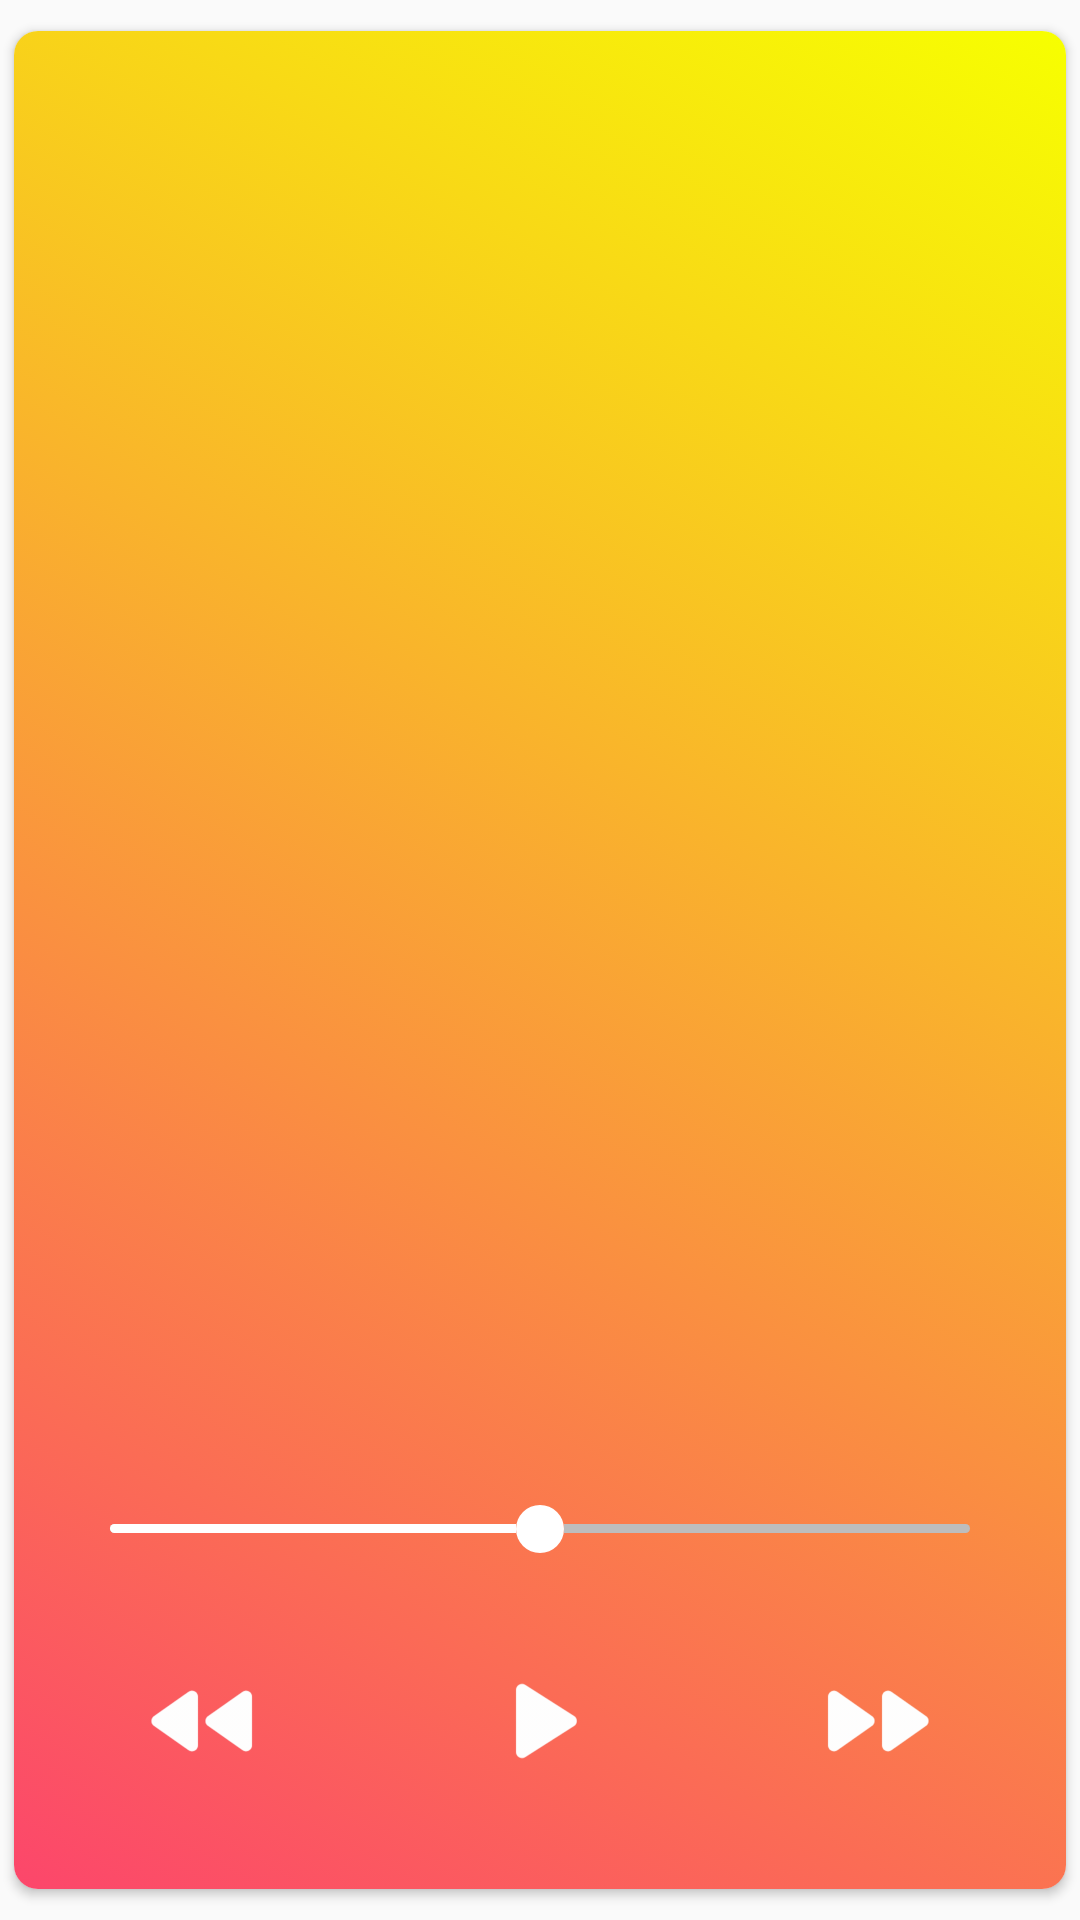

Where to tap for icons on this 1080px x 1920px app screen, as [x,y]:
fast forward: [878,1721]
fast rewind: [202,1721]
play arrow: [546,1721]
